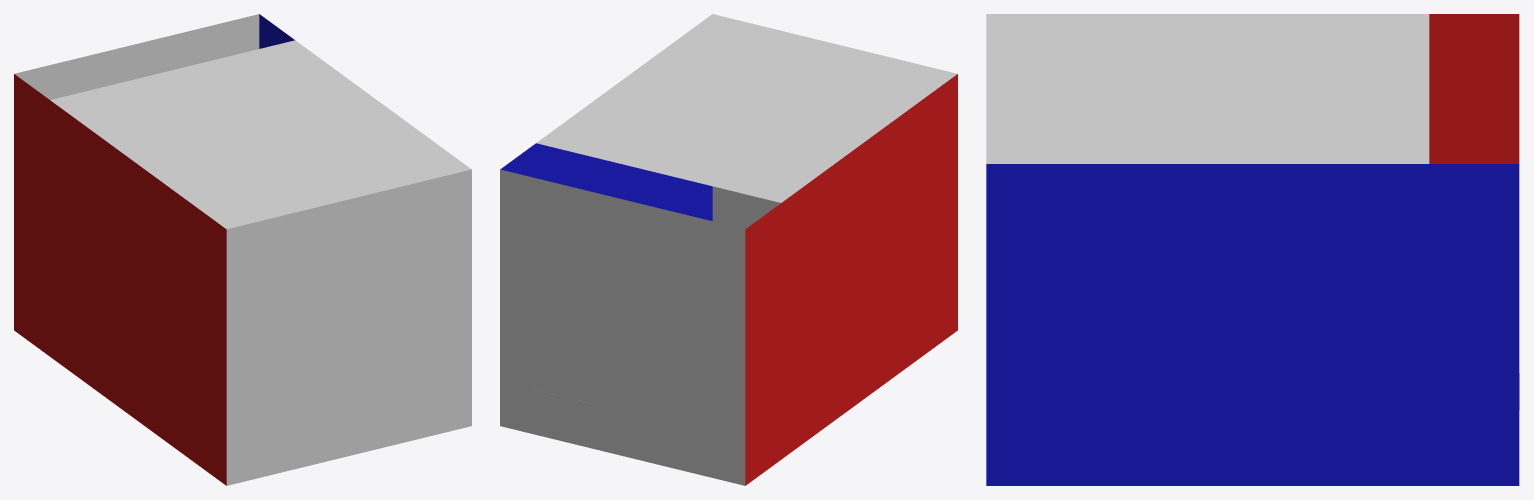
Rendered from cornellbox_0.obj.
The picture shows the model from 3 angles, left to right: view 1: azimuth 30°, elevation 25°; view 2: azimuth 150°, elevation 25°; view 3: azimuth 270°, elevation 25°; orthographic projection. The views are drawn at different scales.
Parts seen in each view (by area): view 1: Box_Cube, Wall0_Cube.001, Wall1_Cube.002; view 2: Box_Cube, Wall0_Cube.001, Wall1_Cube.002; view 3: Wall1_Cube.002, Box_Cube, Wall0_Cube.001.
Boxes of the visible parts, x1,y1,x2,y2 form: Box_Cube: (14,14,471,485); Wall0_Cube.001: (14,74,226,485); Wall1_Cube.002: (259,14,294,48); Box_Cube: (500,14,957,485); Wall0_Cube.001: (745,74,957,485); Wall1_Cube.002: (500,143,712,221); Wall1_Cube.002: (986,164,1519,485); Box_Cube: (986,14,1429,163); Wall0_Cube.001: (1429,14,1519,163).
Bounding box in the file's own units: 2 × 2 × 3.
